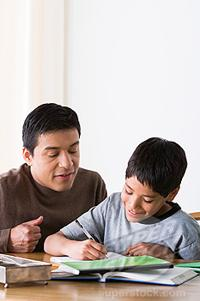person: (43, 136, 200, 264)
